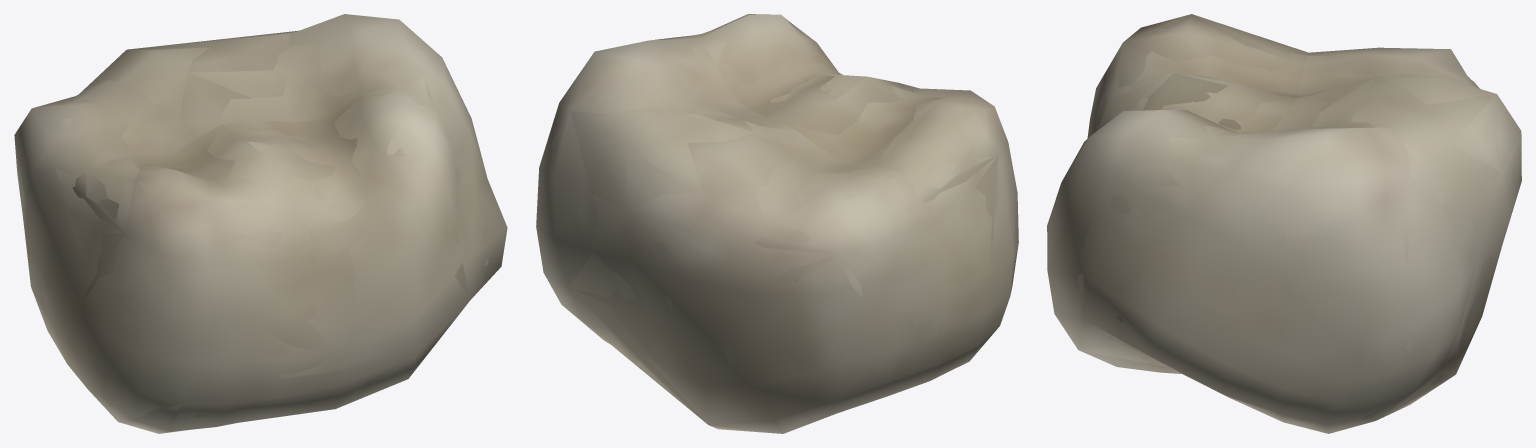
File: R carpi radiale.fbx
3 views of the same model, side by side, from view 1: azimuth 30°, elevation 25°; view 2: azimuth 150°, elevation 25°; view 3: azimuth 270°, elevation 25° (orthographic). The views are drawn at different scales.
Parts seen in each view (by area): view 1: R carpi radiale, R carpi radiale high, R carpi radiale low; view 2: R carpi radiale, R carpi radiale low, R carpi radiale high; view 3: R carpi radiale, R carpi radiale low, R carpi radiale high.
Part boxes in pixels (bbox=[...]): R carpi radiale: bbox=[14, 14, 507, 433]; R carpi radiale high: bbox=[37, 45, 488, 430]; R carpi radiale low: bbox=[14, 30, 469, 431]; R carpi radiale: bbox=[536, 14, 1018, 433]; R carpi radiale low: bbox=[540, 16, 998, 432]; R carpi radiale high: bbox=[552, 26, 1014, 418]; R carpi radiale: bbox=[1047, 14, 1521, 433]; R carpi radiale low: bbox=[1076, 14, 1521, 432]; R carpi radiale high: bbox=[1098, 28, 1514, 424].
Bounding box in the file's own units: 0.7535 × 0.5783 × 0.7252.
Materials: 1 (1 with a texture image).
